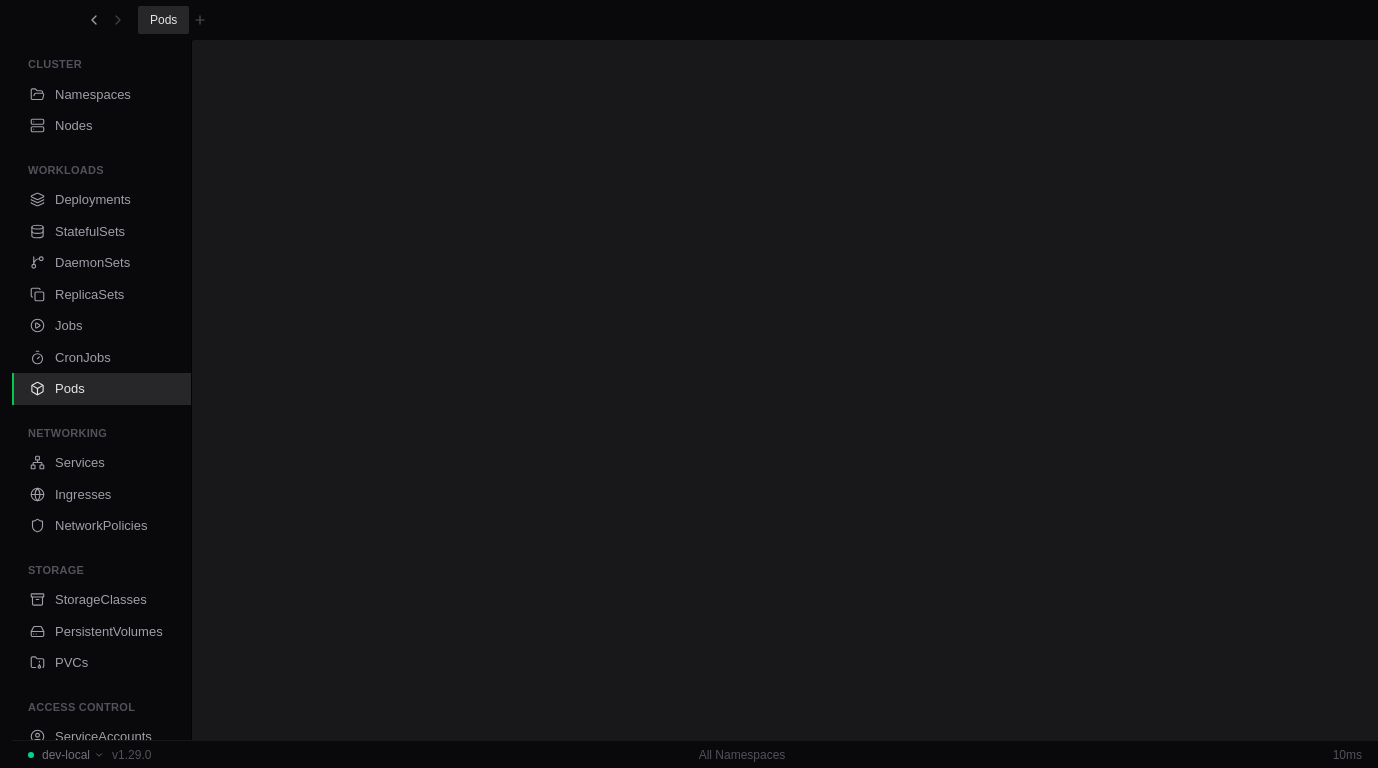
Scenario: DeploymentListView › filters deployments by search
The width and height of the screenshot is (1378, 768).
Click the button "Deployments" at (102, 200), box x1=12 y1=184 x2=191 y2=216
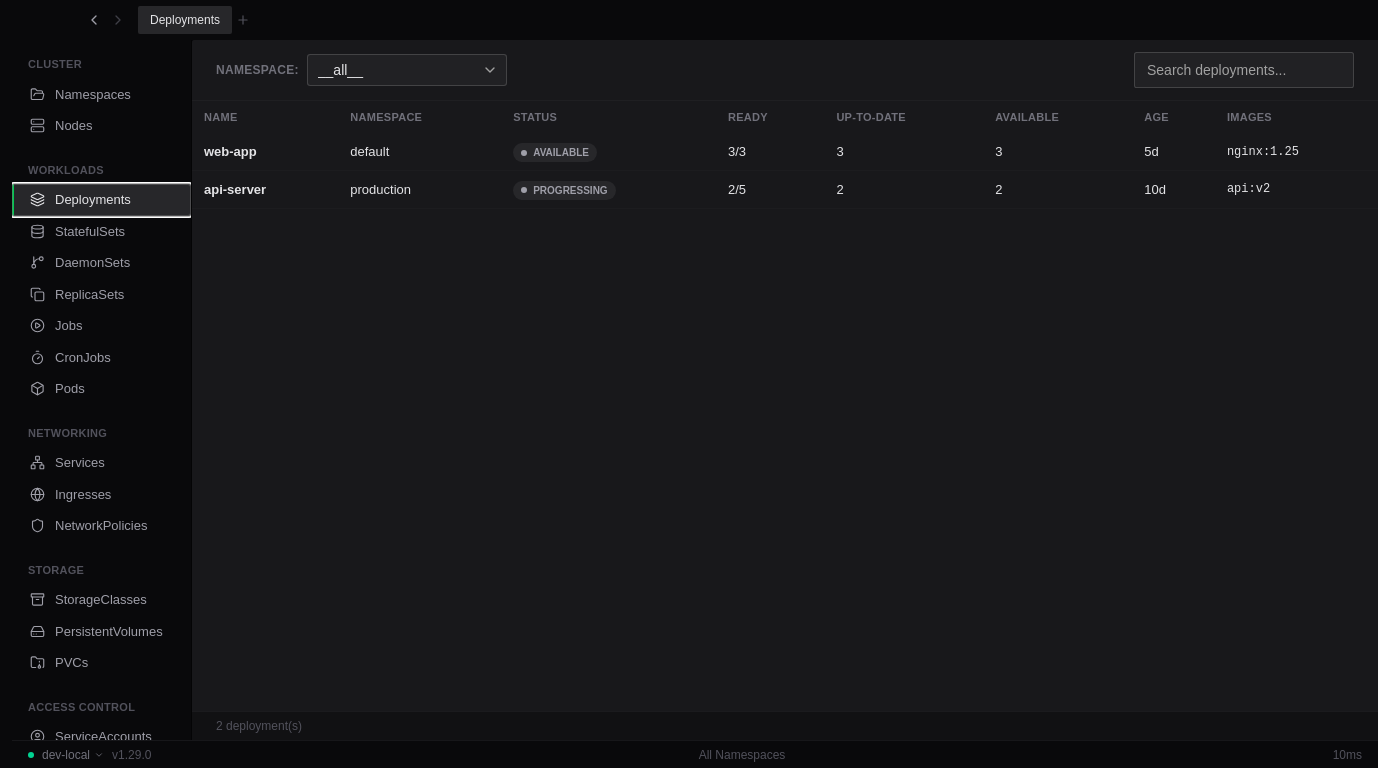
Check: the text "web-app" is shown, box x1=192 y1=134 x2=338 y2=170
Type "web" into the field with placeholder "Search deployments..." at (1244, 70), box x1=1134 y1=52 x2=1354 y2=88
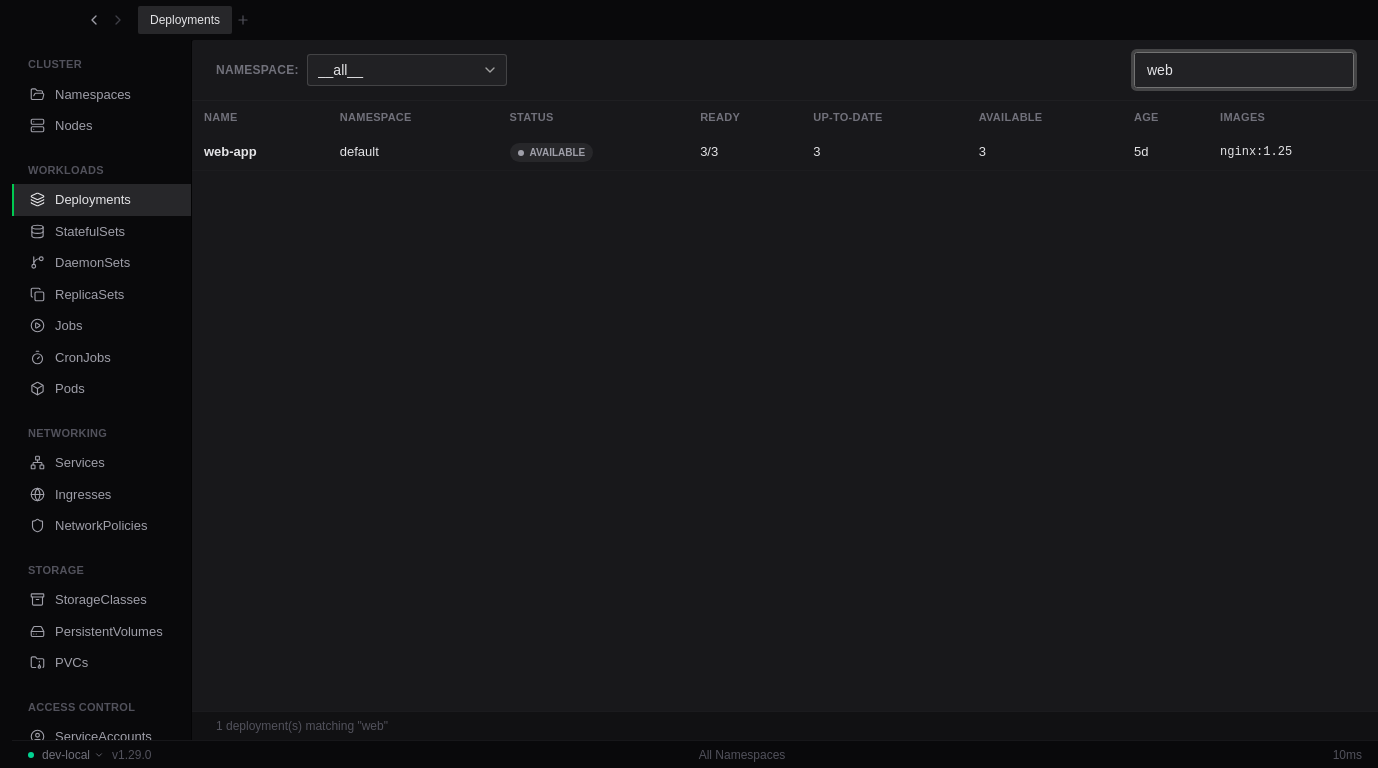
Check: the text "web-app" is shown, box x1=192 y1=134 x2=328 y2=170
Check: the text "api-server" is gone
